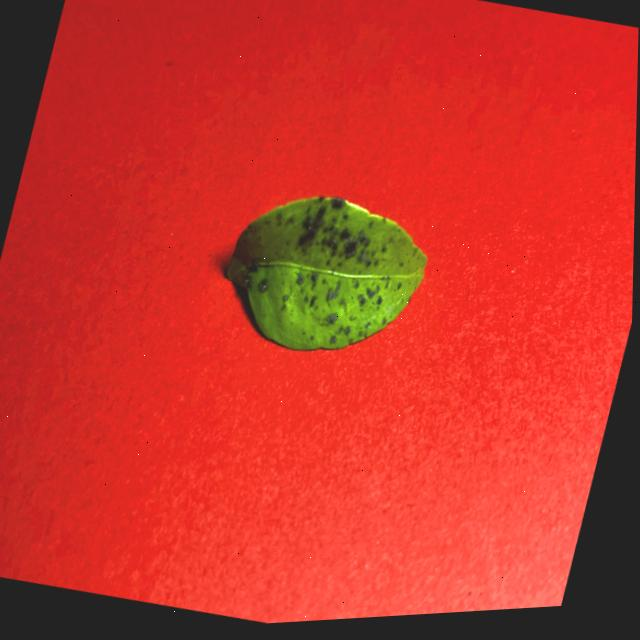sooty_mold: (227, 196, 426, 349)
